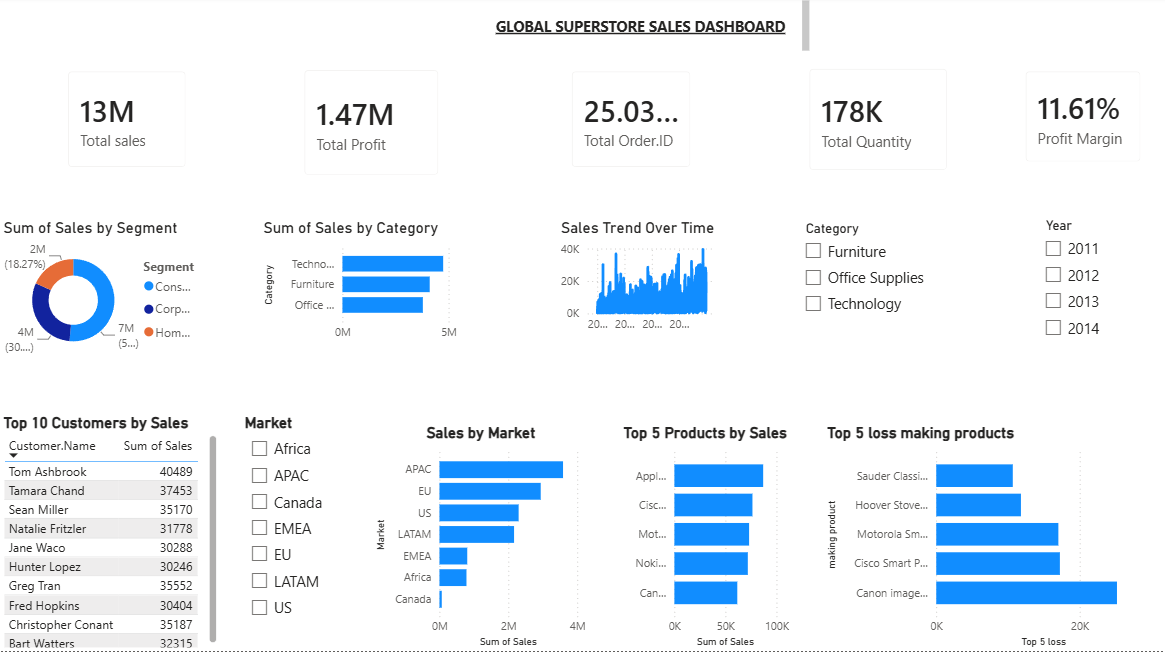

Layout of this report page (visuals, bound fields, positions):
{"tool":"powerbi","page":{"name":"Page 1","canvas":[1280,720],"ordinal":0},"visuals":[{"type":"cardVisual","title":"Total sales","fields":{"Data":["Sum(superstore.Sales)"]},"box":[59,65.9,163.3,140],"z":0},{"type":"cardVisual","fields":{"Data":["Sum(superstore.Profit)"]},"box":[318.4,64.5,181.1,149.6],"z":1000},{"type":"cardVisual","fields":{"Data":["Count(superstore.Order.ID)"]},"box":[612,65.9,164.7,140],"z":2000},{"type":"cardVisual","fields":{"Data":["Sum(superstore.Quantity)"]},"box":[872.7,63.1,185.2,145.5],"z":3000},{"type":"clusteredBarChart","title":"Sum of Sales by Category","fields":{"Category":["superstore.Category"],"Y":["Sum(superstore.Sales)"]},"box":[285.4,244.3,245.6,142.7],"z":4000},{"type":"lineChart","title":"Sales Trend Over Time","fields":{"Y":["Sum(superstore.Sales)"],"Category":["superstore.Order.Date"]},"box":[531,244.3,321.1,134.5],"z":5000},{"type":"donutChart","fields":{"Y":["Sum(superstore.Sales)"],"Category":["superstore.Segment"]},"box":[0,244.3,230.5,160.5],"z":6000},{"type":"tableEx","title":"Top 10 Customers by Sales","fields":{"Values":["superstore.Customer.Name","Sum(superstore.Sales)"]},"box":[0,458.3,244.3,262.1],"z":7000},{"type":"slicer","title":"Market","fields":{"Values":["superstore.Market"]},"box":[264.8,458.3,115.3,262.1],"z":8000},{"type":"slicer","fields":{"Values":["superstore.Category"]},"box":[872.7,241.5,190.7,126.2],"z":9000},{"type":"slicer","fields":{"Values":["superstore.Order.Date.Variation.Date Hierarchy.Year"]},"box":[1136.2,238.8,144.1,148.2],"z":10000},{"type":"clusteredBarChart","title":"    Sales by Market","fields":{"Category":["superstore.Market"],"Y":["Sum(superstore.Sales)"]},"box":[408.9,469.3,240.1,251.1],"z":11000},{"type":"cardVisual","title":"Total sales","fields":{"Data":["superstore.Profit_Margin"]},"box":[1110.1,65.9,160.5,133.1],"z":12000},{"type":"clusteredBarChart","title":"Top 5 Products by Sales","fields":{"Category":["superstore.Product.Name"],"Y":["Sum(superstore.Sales)"]},"box":[680.6,469.3,192.1,251.1],"z":13000},{"type":"barChart","title":"Top 5 loss  making products","fields":{"Category":["superstore.Product.Name"],"Y":["Sum(superstore.Profit)"]},"box":[904.3,469.3,376,251.1],"z":14000},{"type":"textbox","box":[462.4,0,432.2,65.9],"z":15000}]}

Visuals, with their boxes in screenshot pixels (x1, y1, x2, y2), scaled from the page's 1280x720 canvas onto the 1165x652 screenshot:
"Total sales" cardVisual: 54/60/202/186
cardVisual - Sum(superstore.Profit): 290/58/455/194
cardVisual - Count(superstore.Order.ID): 557/60/707/186
cardVisual - Sum(superstore.Quantity): 794/57/963/189
"Sum of Sales by Category" clusteredBarChart: 260/221/483/350
"Sales Trend Over Time" lineChart: 483/221/776/343
donutChart - Sum(superstore.Sales) x superstore.Segment: 0/221/210/367
"Top 10 Customers by Sales" tableEx: 0/415/222/651
"Market" slicer: 241/415/346/651
slicer - superstore.Category: 794/219/968/333
slicer - superstore.Order.Date.Variation.Date Hierarchy.Year: 1034/216/1164/350
"    Sales by Market" clusteredBarChart: 372/425/591/651
"Total sales" cardVisual: 1010/60/1156/180
"Top 5 Products by Sales" clusteredBarChart: 619/425/794/651
"Top 5 loss  making products" barChart: 823/425/1164/651
textbox: 421/0/814/60
